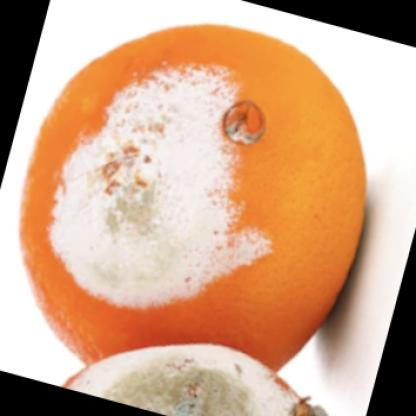rotten: (21, 23, 368, 388)
